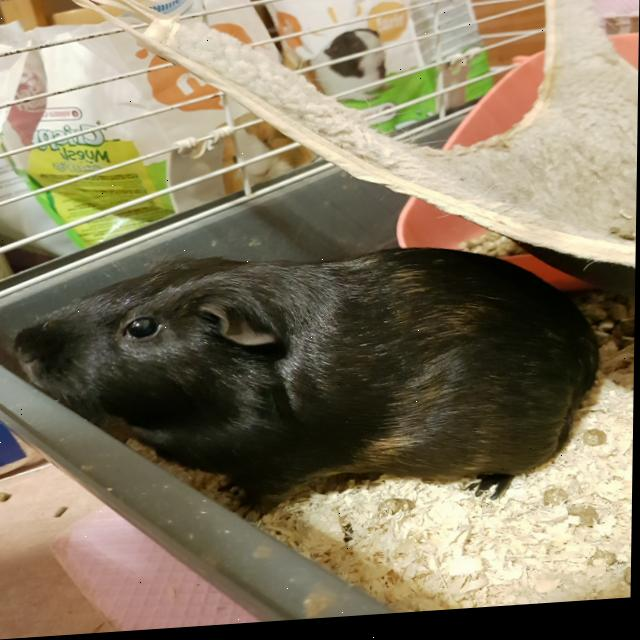guinea pig: (3, 235, 605, 541)
